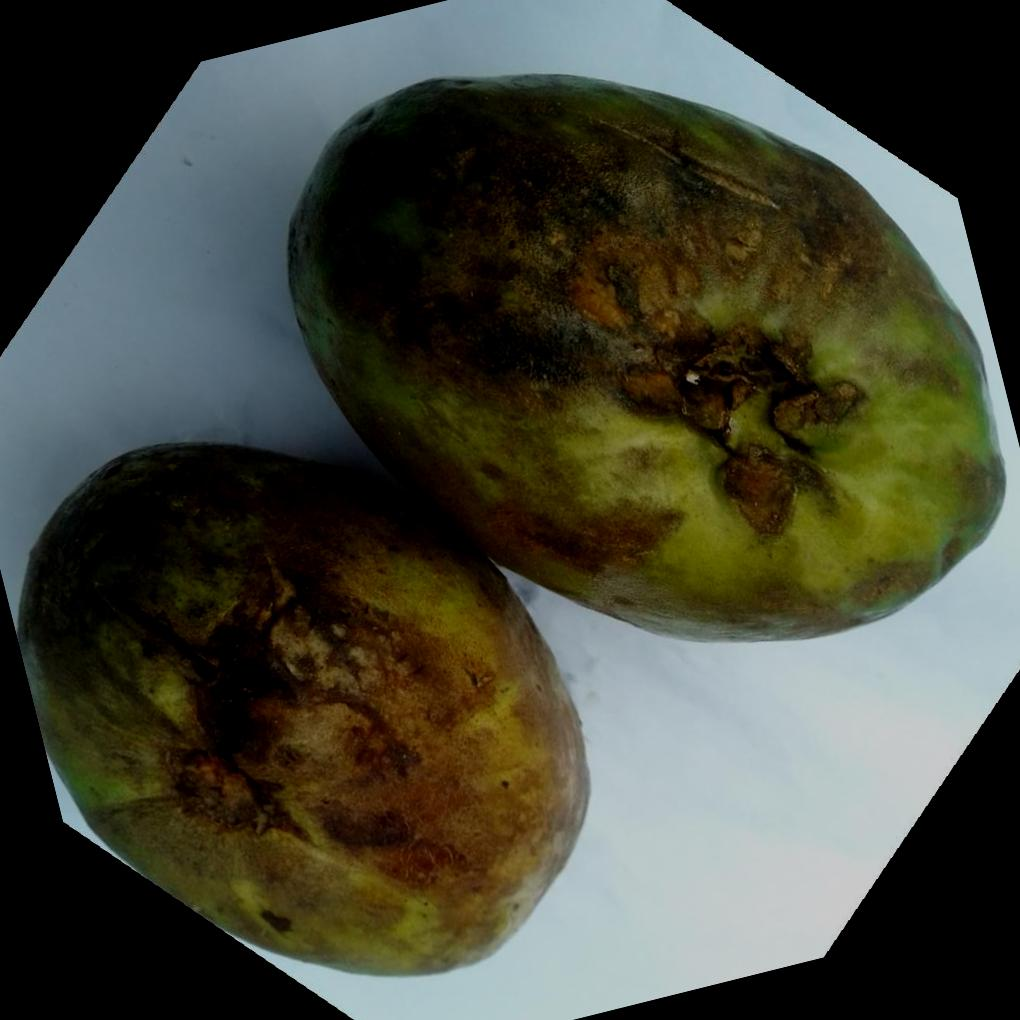FreshOrange: (11, 71, 1006, 982)
